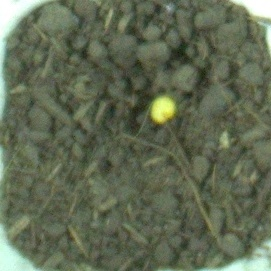chilli seed: (148, 95, 178, 125)
